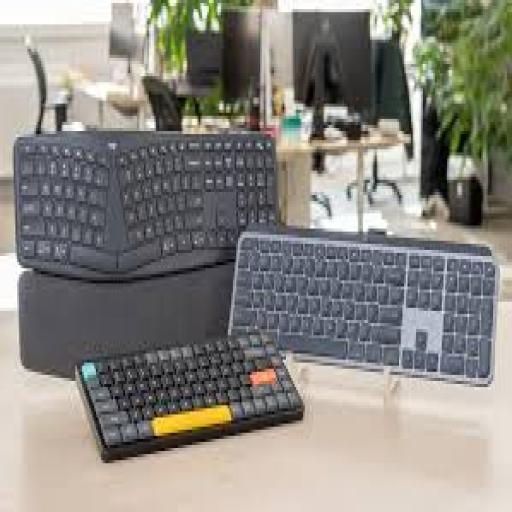KEYBOARD-2: (229, 229, 498, 384), (15, 134, 276, 277), (75, 332, 303, 457)
